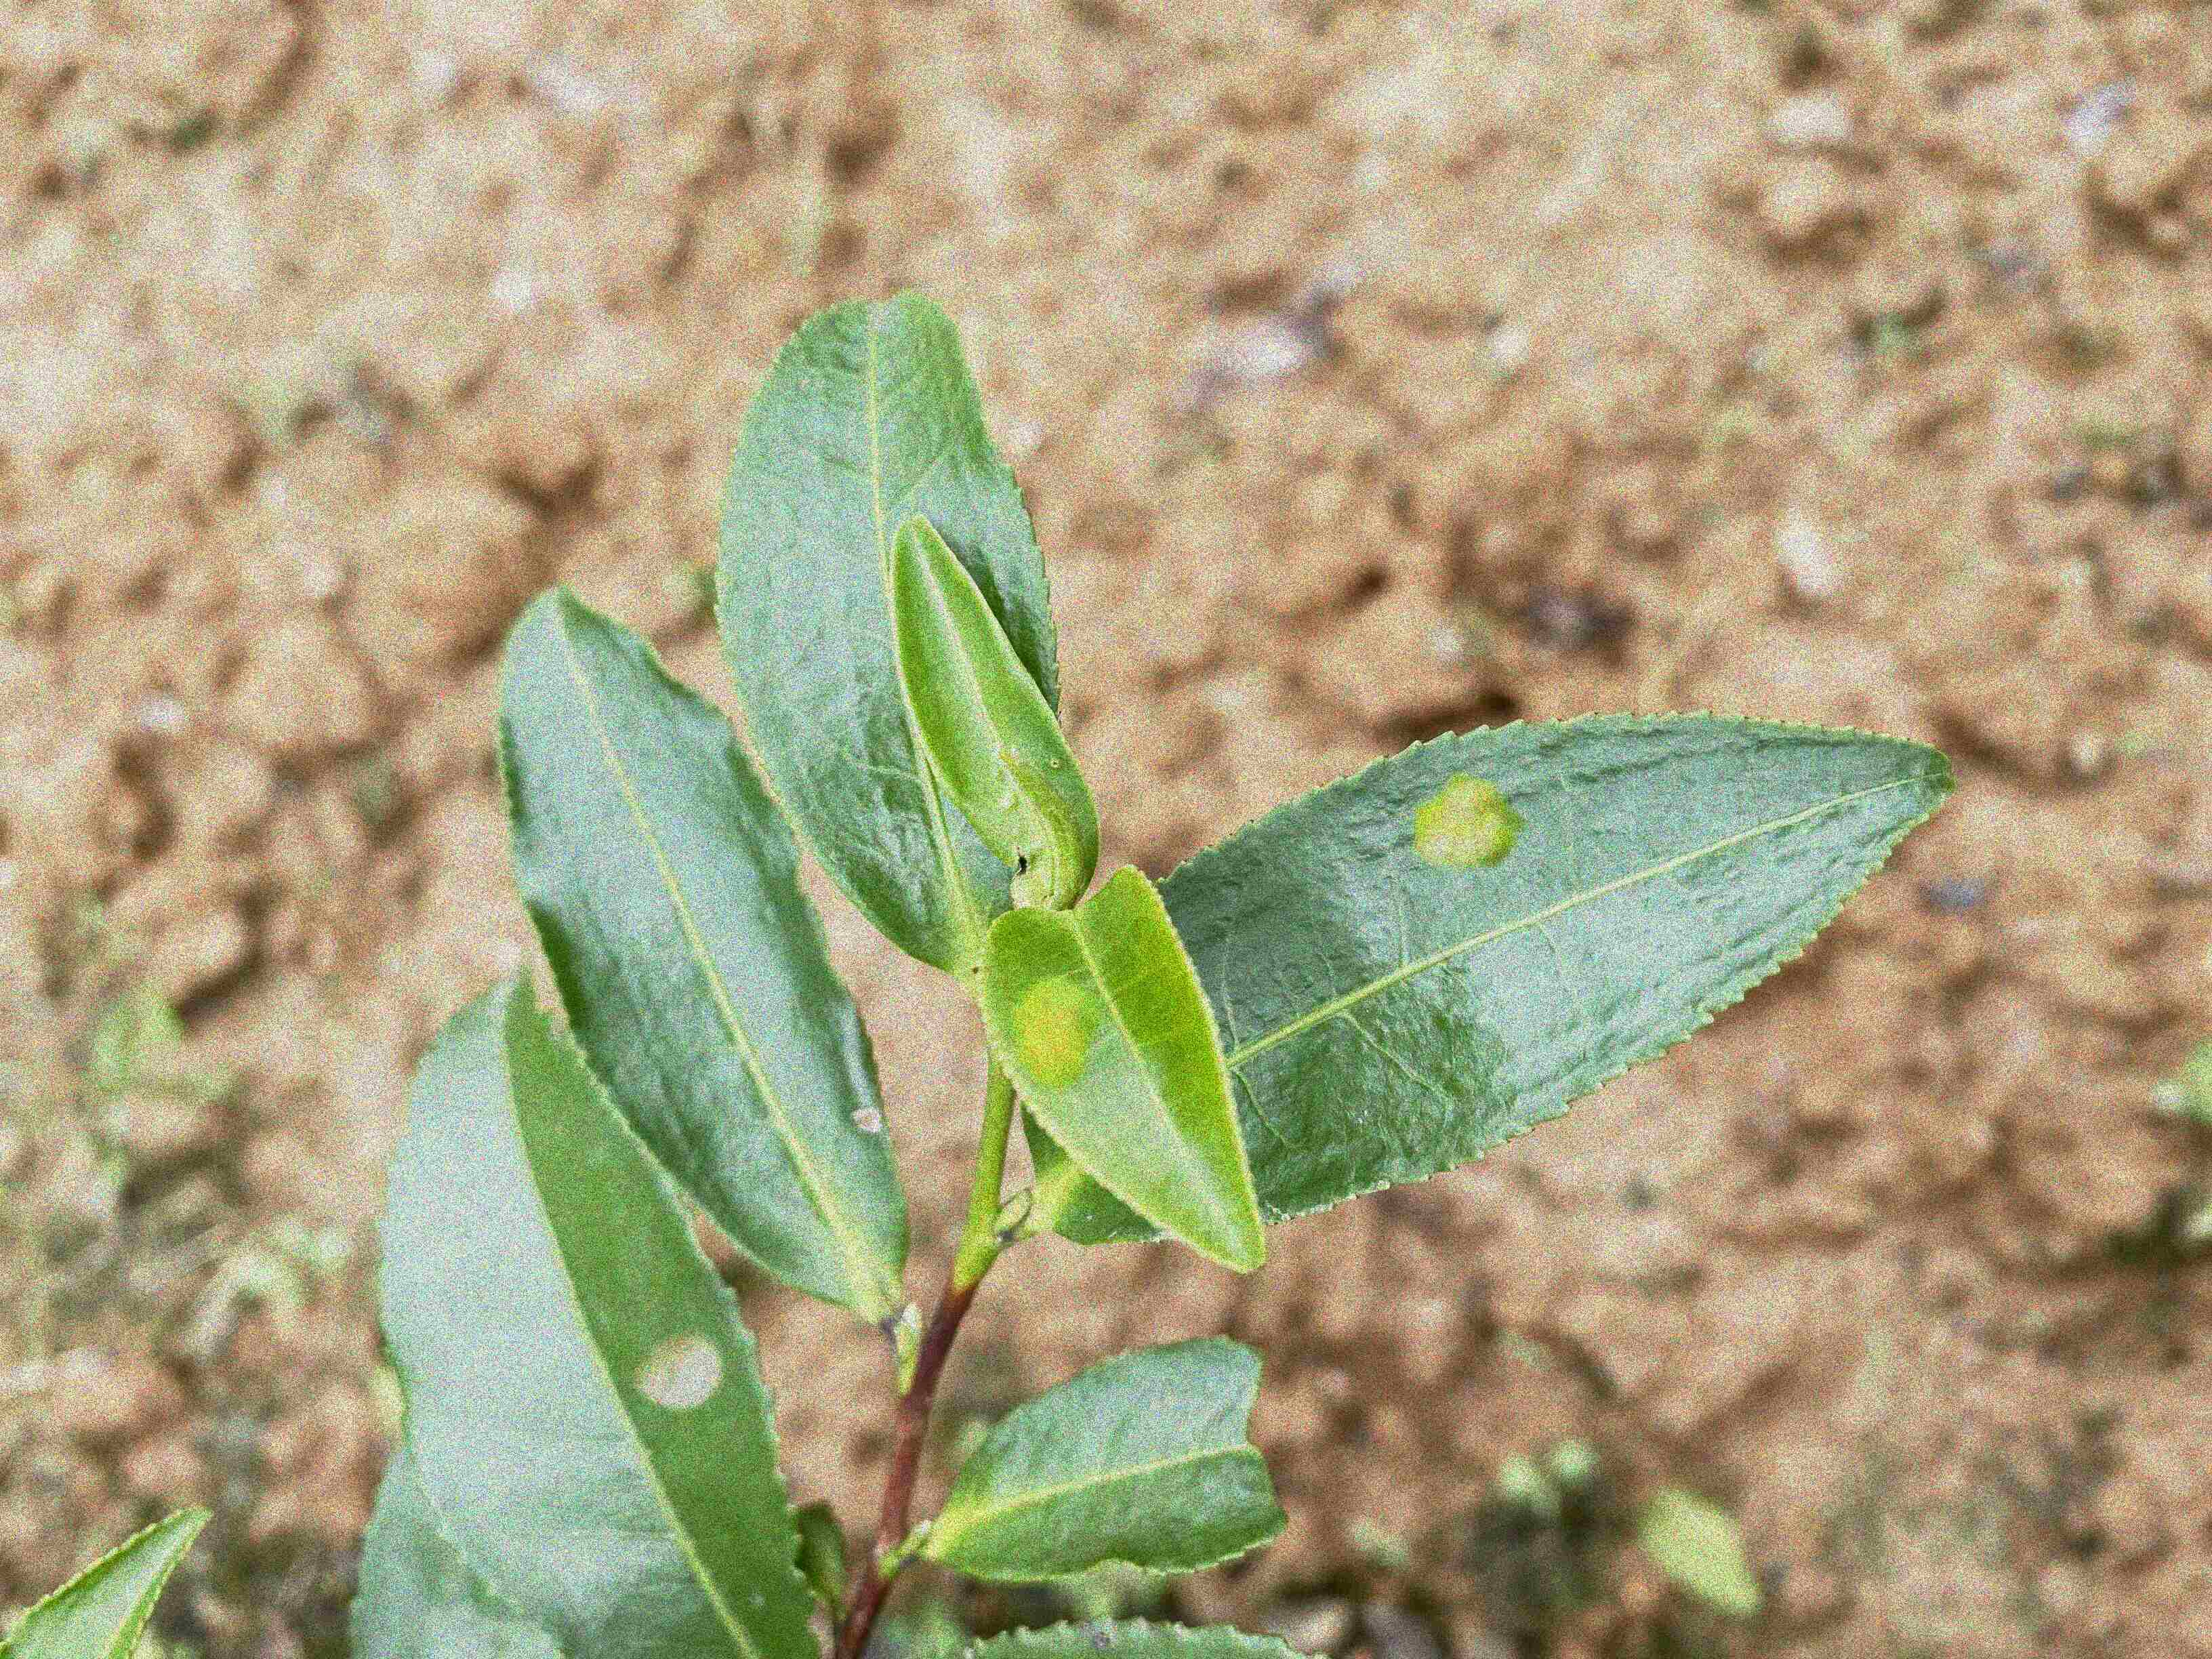chabing_low: (1028, 706, 1956, 1237), (376, 960, 822, 1654), (975, 868, 1261, 1272)
chihuo_high: (923, 1331, 1289, 1589)
chihuo_low: (498, 582, 913, 1312)
healthy: (712, 286, 1062, 981)
